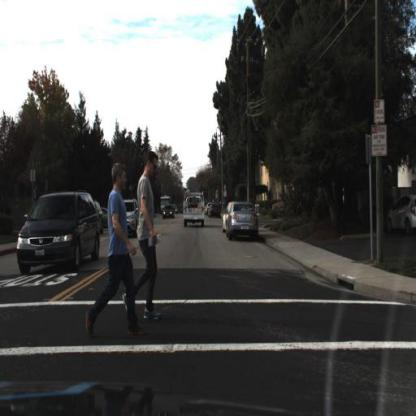car: (14, 193, 101, 270), (180, 189, 209, 236), (385, 196, 416, 234), (229, 204, 261, 240), (125, 199, 139, 239), (209, 198, 225, 222), (160, 201, 175, 222)
pedestrian: (100, 163, 138, 337), (135, 151, 165, 323)
truck: (159, 191, 171, 211)
